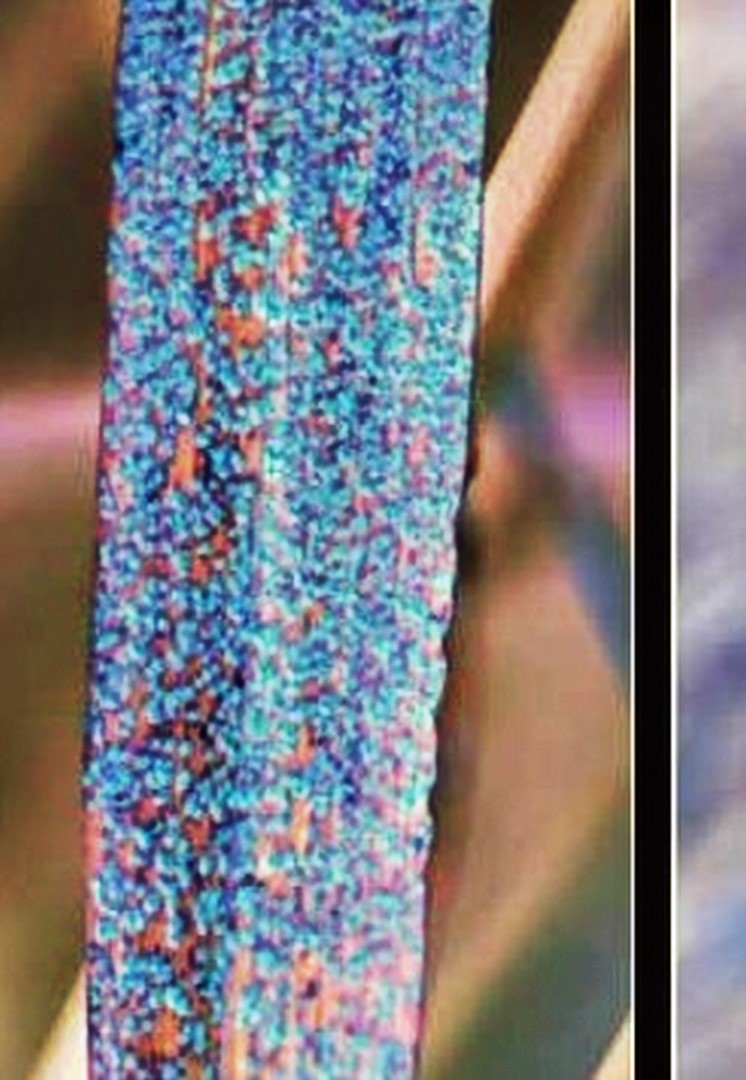Leaf Rust: (71, 1, 520, 1028)
